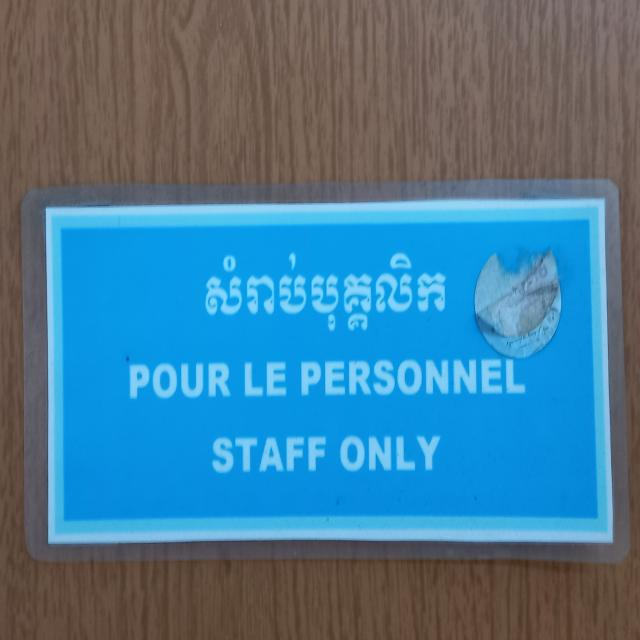Yolov11_80vkh: (189, 240, 457, 340)
